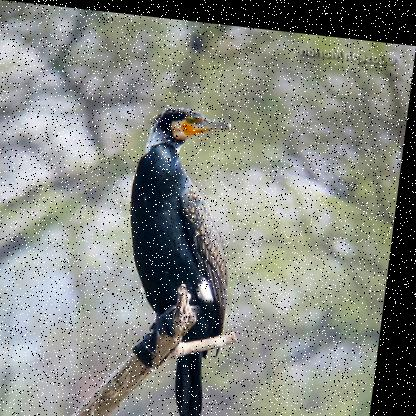Burung: (113, 92, 257, 415)
